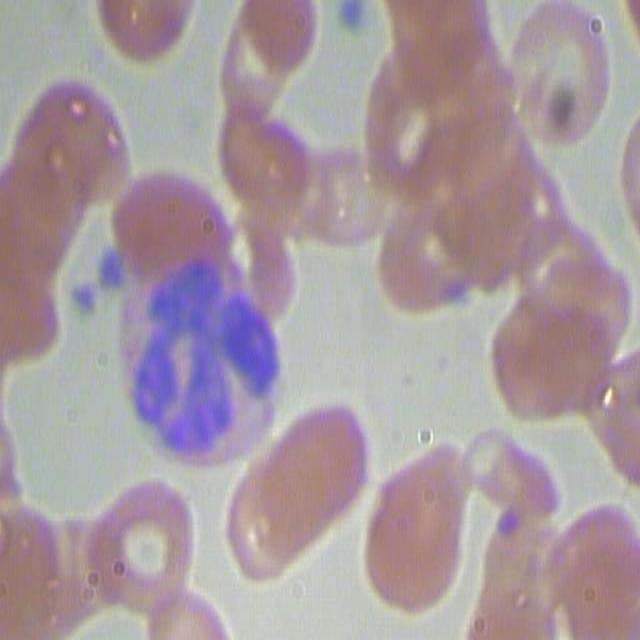RBC: (228, 404, 366, 582), (496, 10, 620, 161), (424, 133, 562, 262), (378, 7, 522, 125), (512, 206, 635, 340), (4, 152, 86, 351), (366, 462, 476, 602), (74, 488, 204, 602), (475, 307, 621, 405), (19, 84, 129, 208), (362, 58, 461, 195), (468, 497, 561, 640), (0, 496, 96, 631), (538, 510, 640, 636), (109, 179, 235, 271), (364, 192, 461, 305), (291, 150, 386, 243), (222, 124, 314, 219), (458, 428, 557, 513), (217, 222, 295, 320), (218, 26, 293, 114), (101, 0, 190, 71), (237, 0, 327, 61)
WBC: (132, 250, 278, 460)
platelets: (64, 274, 106, 329), (95, 246, 132, 294), (336, 1, 376, 40), (436, 278, 473, 308)
